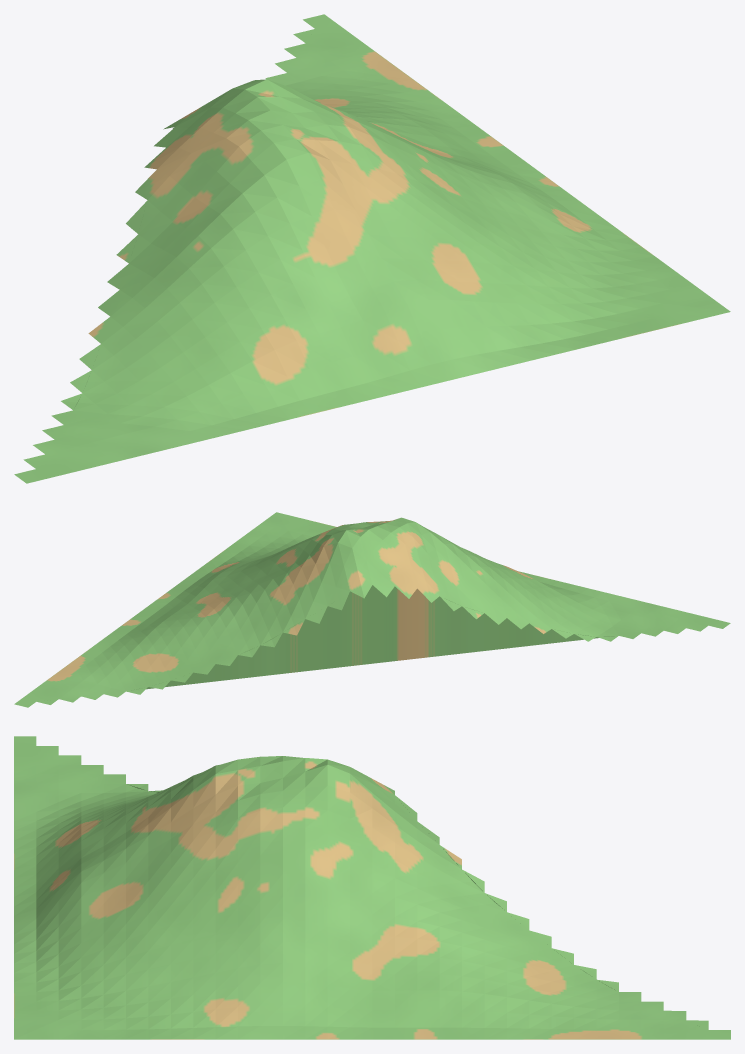
Rendered from Grass_Hills_05_NE.obj.
The picture shows the model from 3 angles, top to bottom: view 1: azimuth 30°, elevation 25°; view 2: azimuth 150°, elevation 25°; view 3: azimuth 270°, elevation 25°; orthographic projection. The views are drawn at different scales.
Bounding box in the file's own units: 10 × 2.33 × 10.
Materials: 1 (1 with a texture image).
